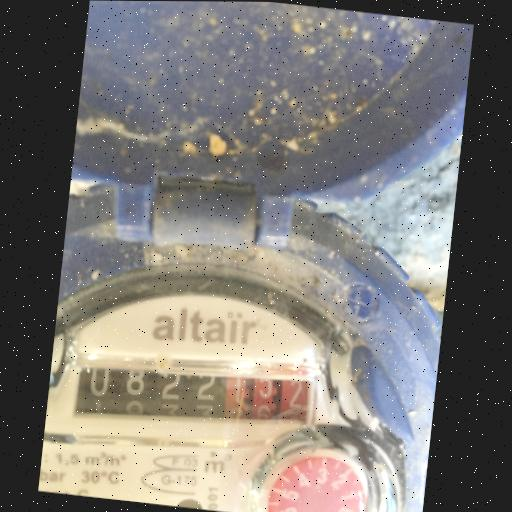0: (81, 366, 118, 416)
1: (223, 375, 252, 420)
2: (152, 369, 187, 419), (188, 371, 223, 421), (277, 378, 311, 423)
5: (249, 377, 279, 422)
8: (116, 366, 152, 418)
border_water_meter_number: (44, 335, 322, 463)
